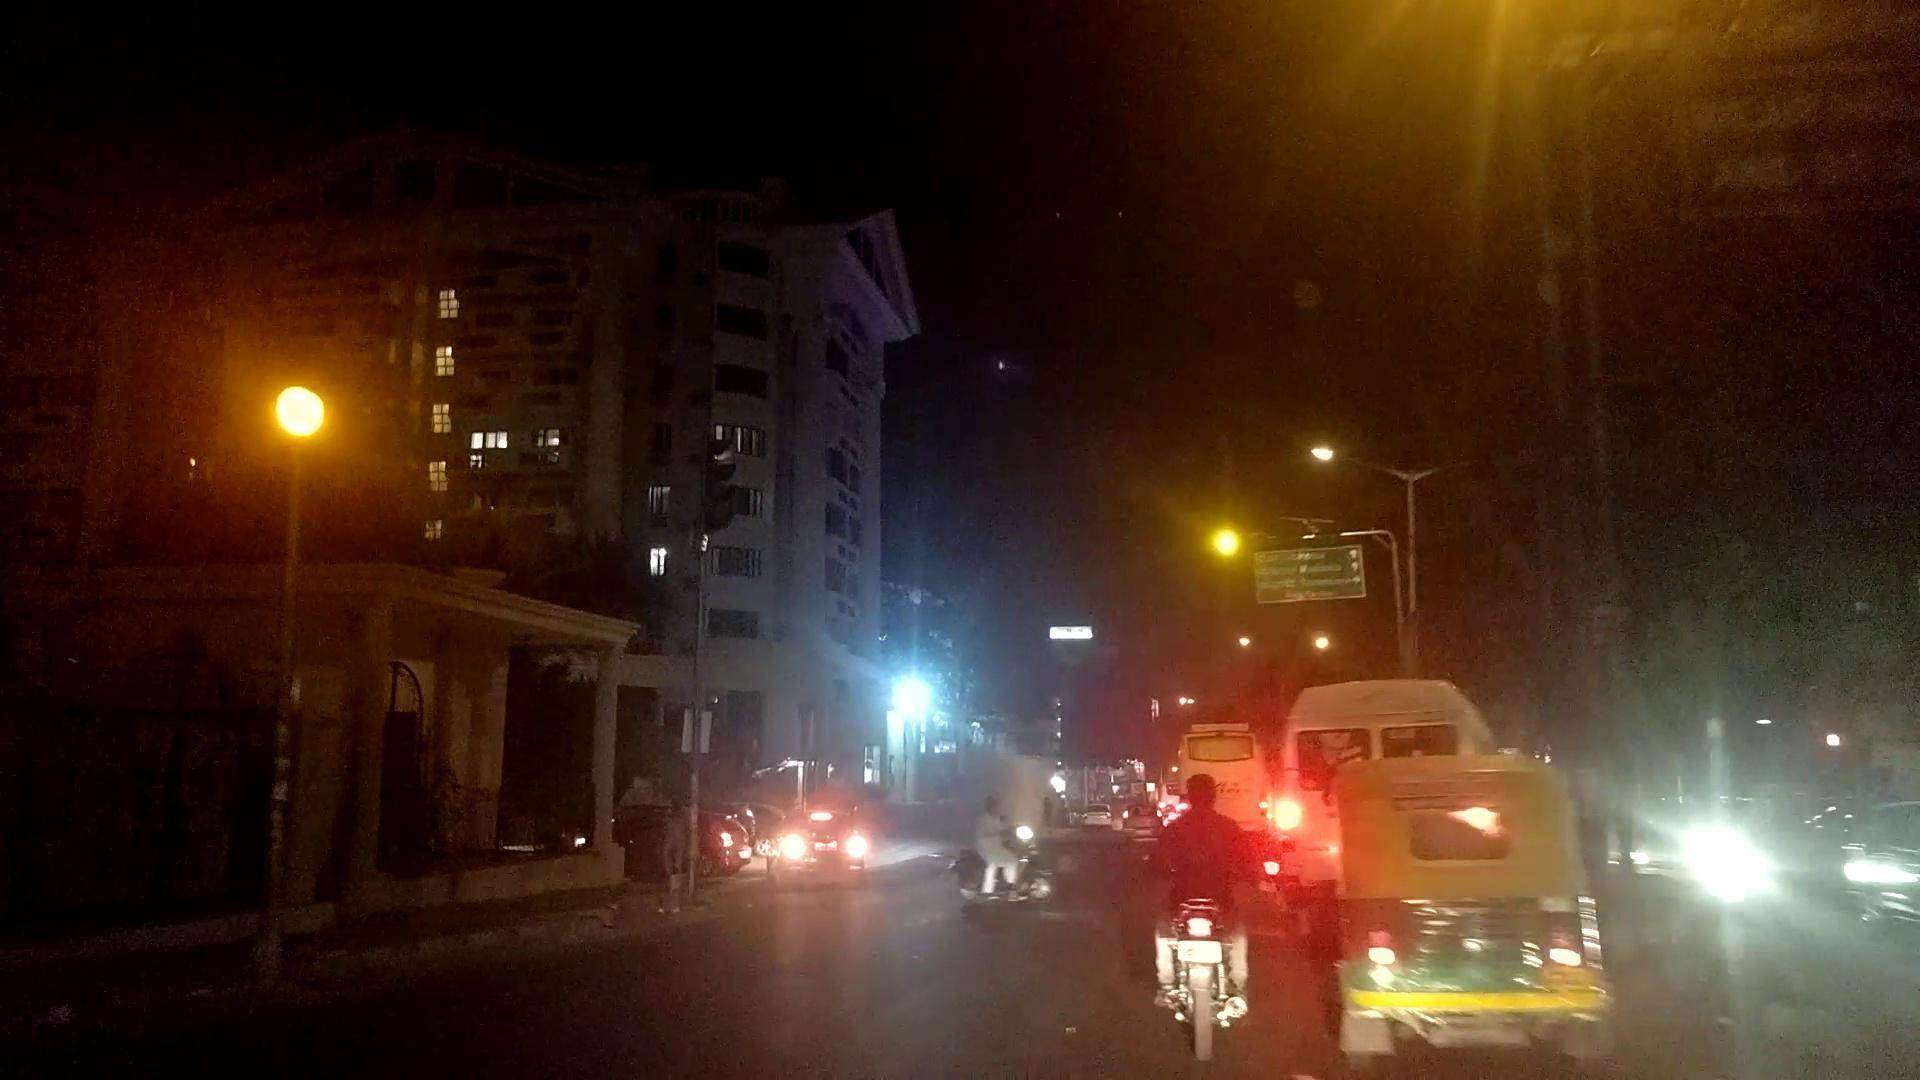on: (1200, 22, 1822, 227), (160, 193, 415, 571)
